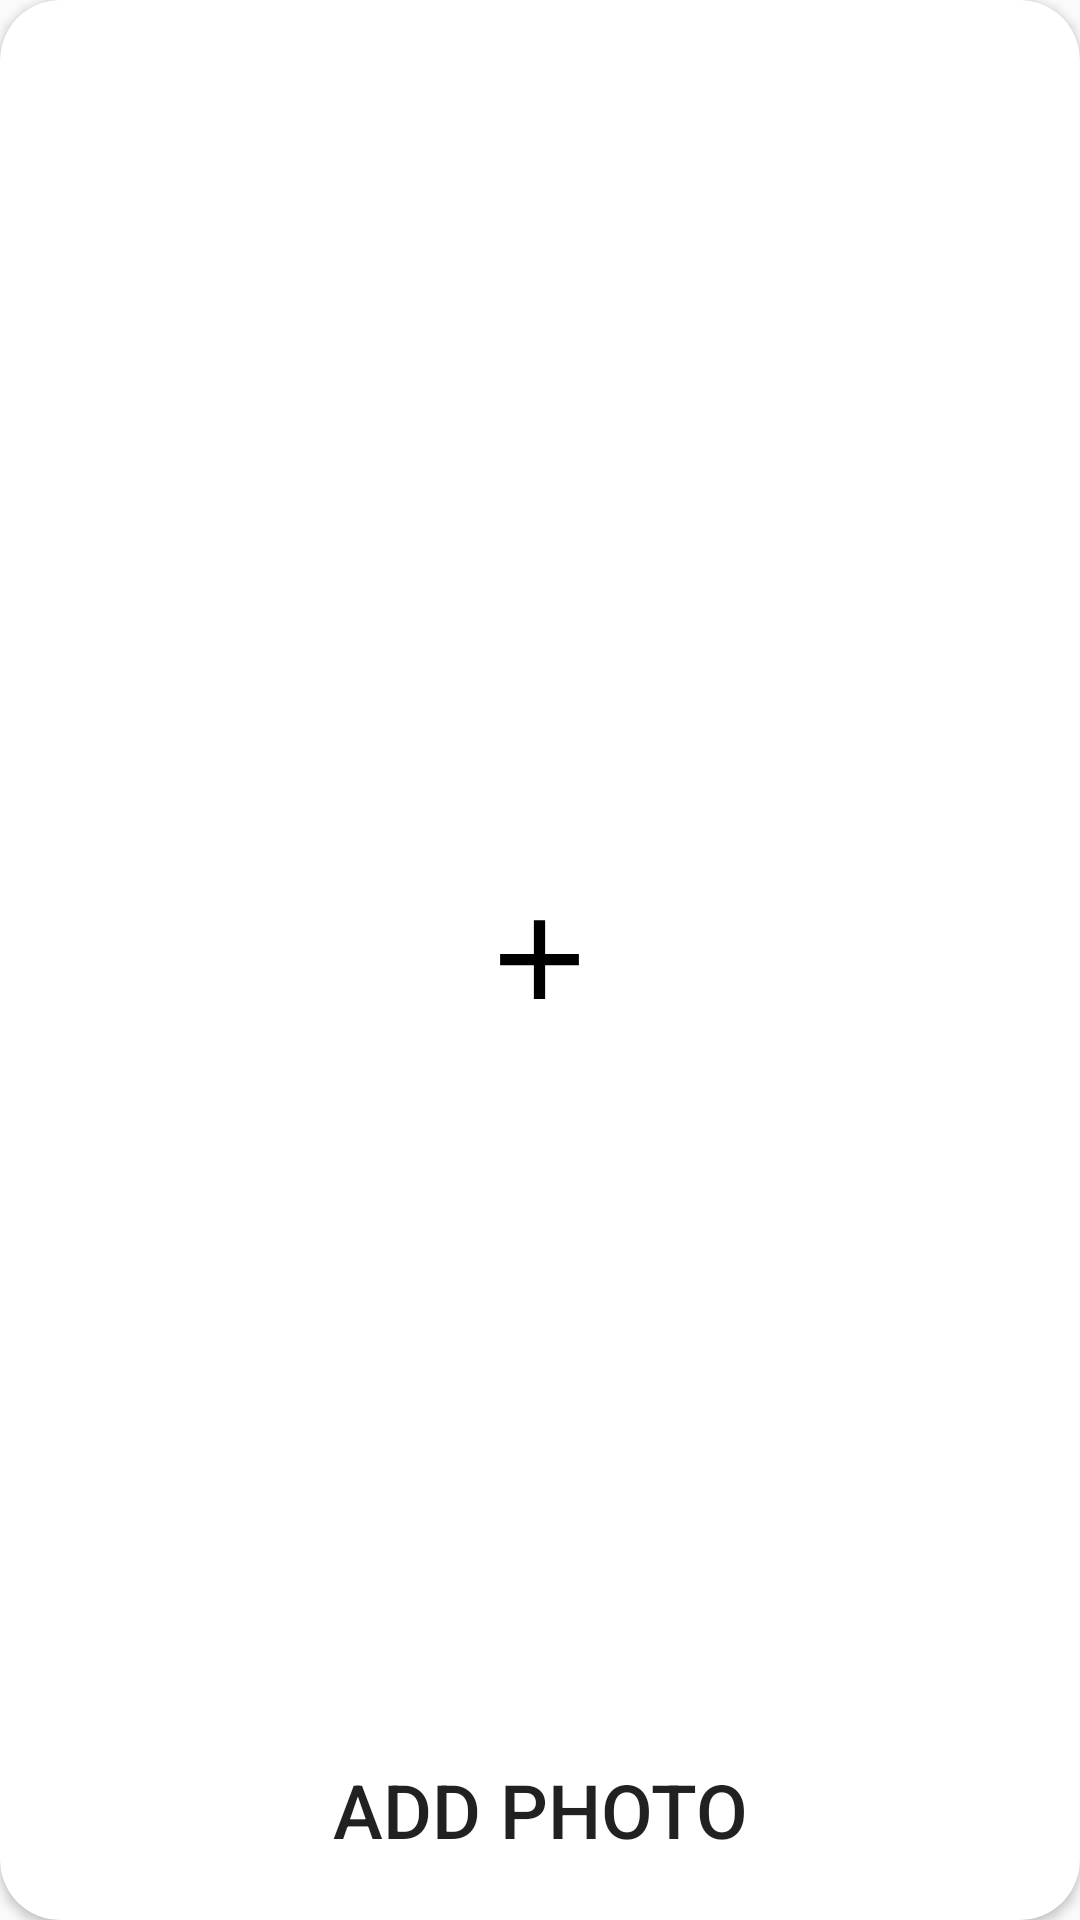

Icon click points for this 1080*1920 phone screenshot, format (x=x, y=y):
add: (x=539, y=959)
